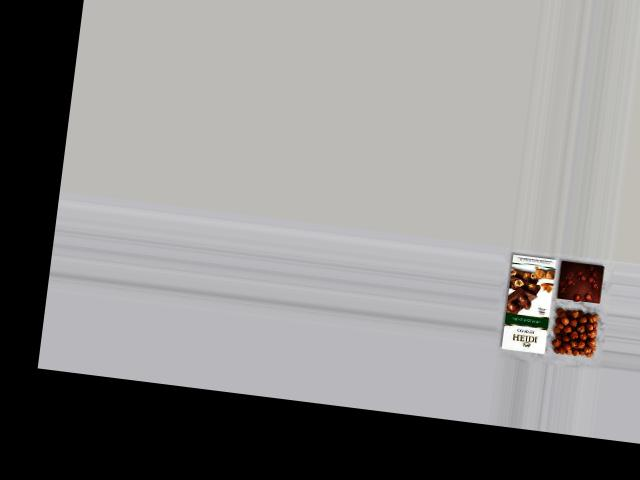chocolate: (555, 258, 609, 305)
